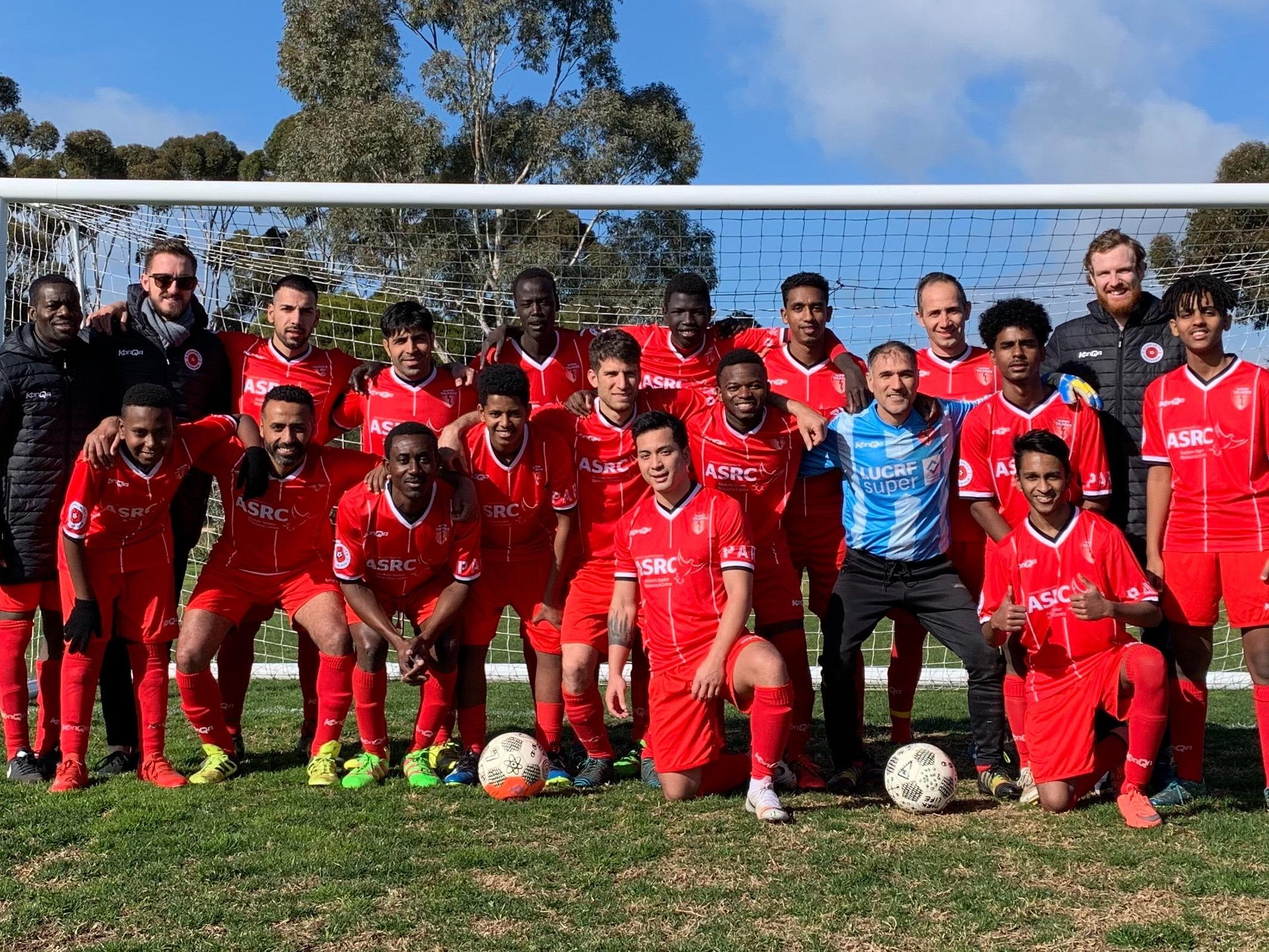ballon_football: (883, 741, 959, 815), (476, 731, 552, 803)
